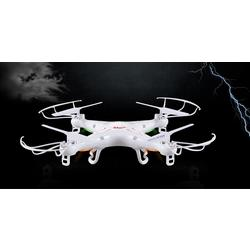drone: (17, 94, 218, 168)
